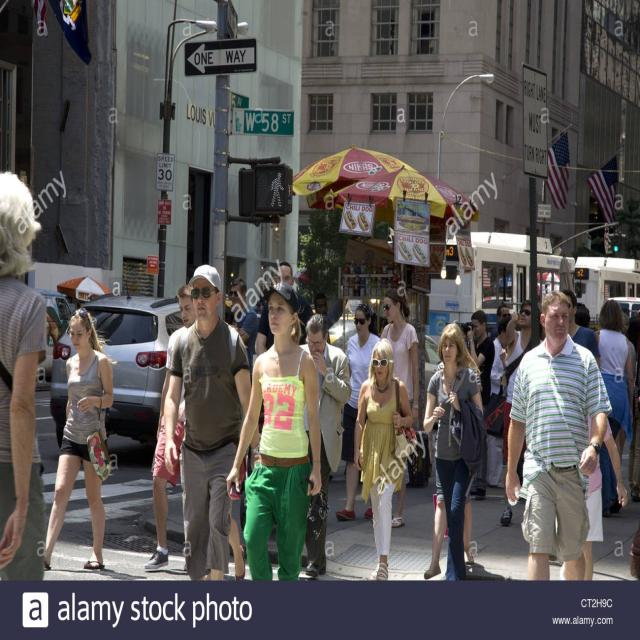body: (503, 286, 614, 581), (162, 263, 261, 582), (223, 281, 325, 581), (0, 168, 49, 582), (42, 304, 115, 573), (421, 320, 486, 582), (422, 321, 486, 582), (143, 282, 197, 574), (298, 312, 354, 579), (353, 337, 414, 581), (496, 293, 546, 528), (334, 302, 382, 524), (379, 288, 421, 531), (593, 297, 636, 519), (583, 408, 630, 581), (204, 449, 251, 581), (256, 260, 314, 358), (482, 314, 512, 491), (620, 308, 640, 502), (559, 287, 603, 373), (462, 307, 496, 413), (228, 276, 260, 386), (48, 561, 148, 590), (134, 551, 190, 578), (313, 292, 332, 346), (489, 302, 512, 338), (572, 300, 592, 330)
